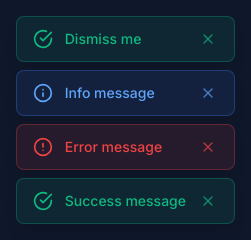
Test: Toast › removes toast on close button click
This screenshot has width=251, height=240.
Expected: the text "Dismiss me" is shown, [65,29,141,49]
Click the button without text next to "Dismiss me": (208,39) [198,29,218,49]
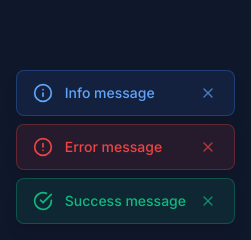
Expected: the text "Dismiss me" is gone
